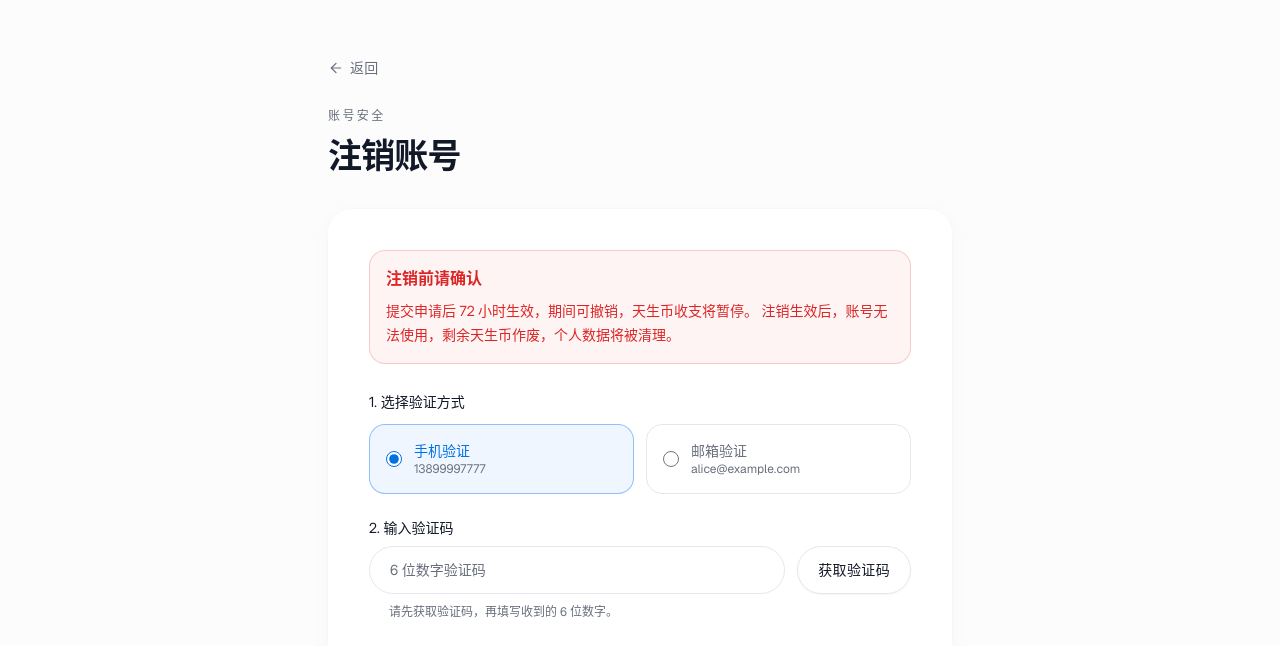
Test case: DeleteAccountForm 72小时注销 › 主动签署精确余额后提交，成功保留会话且不宣称已删除
This screenshot has width=1280, height=646.
Click the button "获取验证码" at [854, 570], box [797,546,911,594]
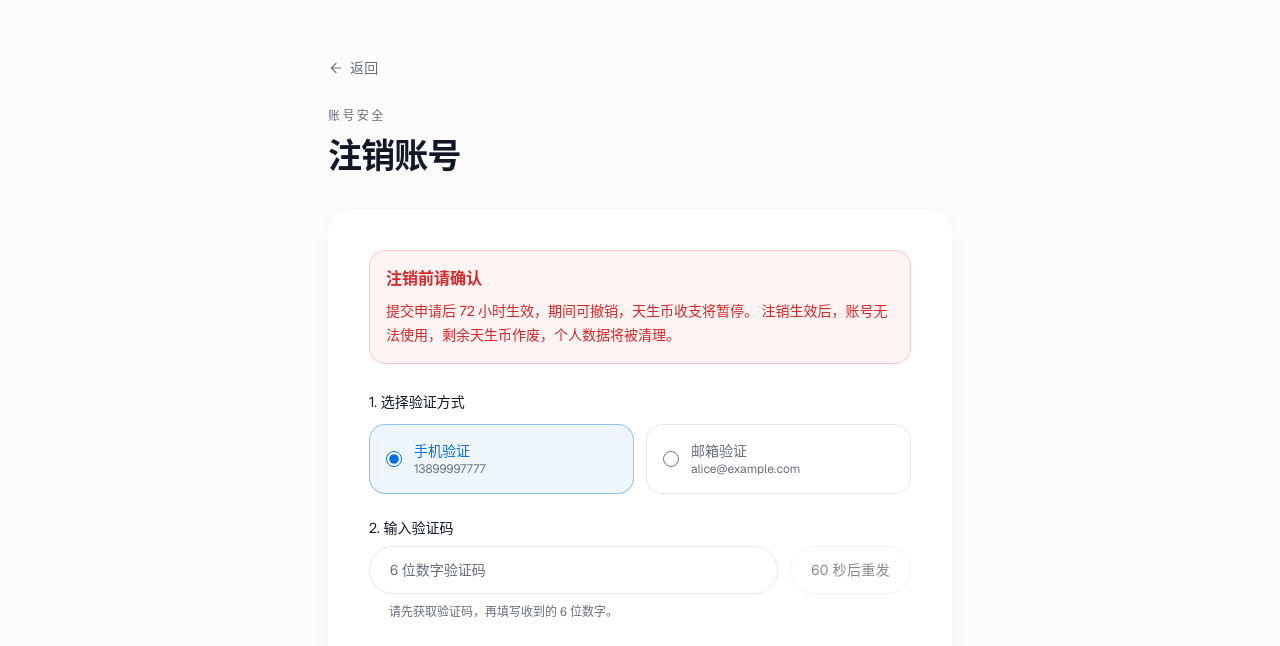
Type "000000" into the field with placeholder "6 位数字验证码" at [574, 570], box [369,546,778,594]
(page scrolled)
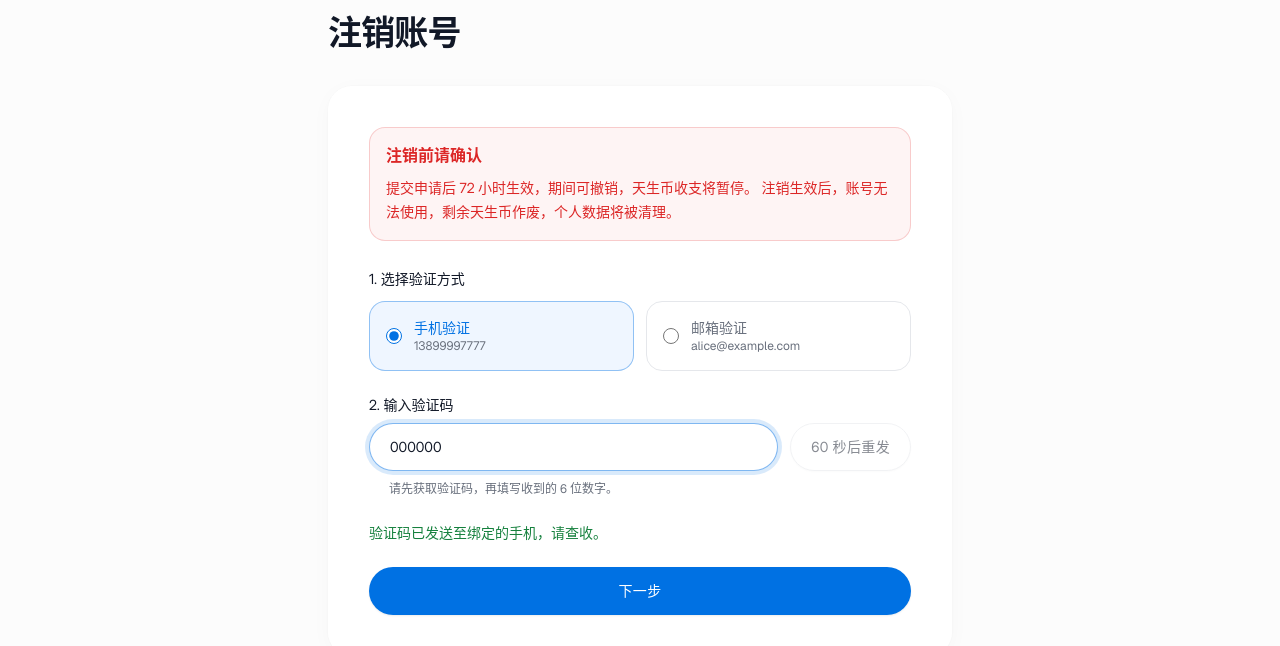
Click the button "下一步" at [640, 591], box [369,567,911,615]
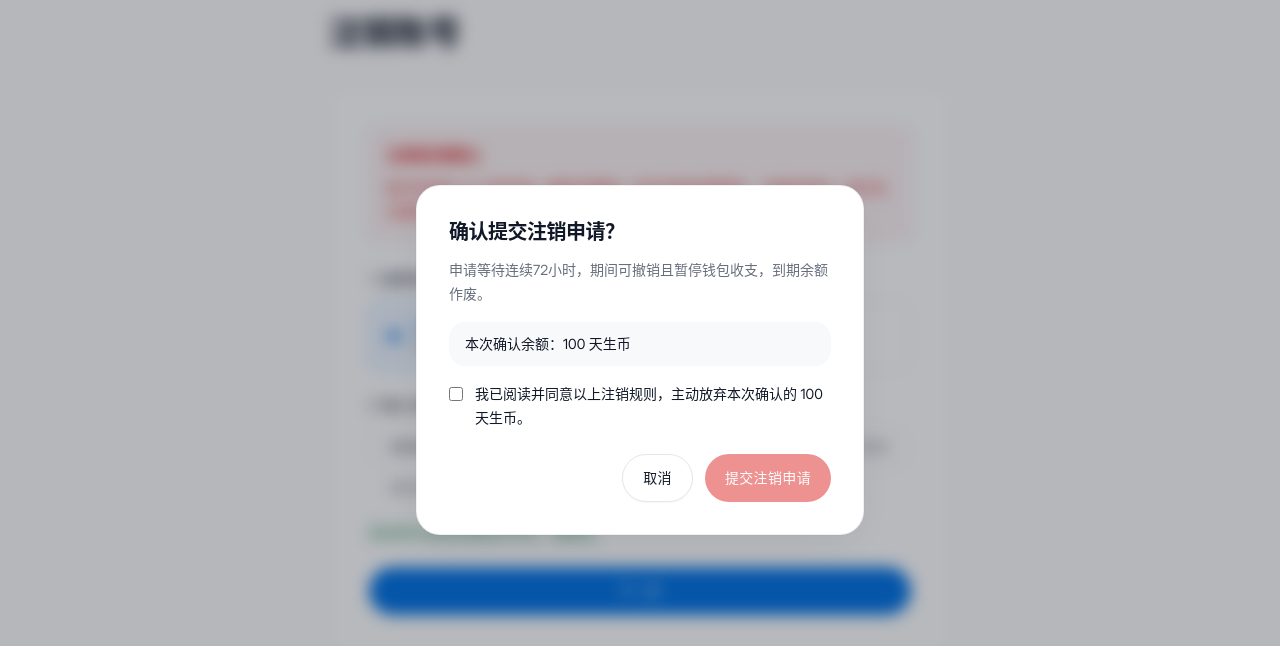
Expected: the checkbox labelled "我已阅读并同意以上注销规则，主动放弃本次确认的 100 天生币。" is not checked
Expected: the button "提交注销申请" is disabled, [705,454,831,502]
Click the checkbox labelled "我已阅读并同意以上注销规则，主动放弃本次确认的 100 天生币。" at [456, 394], box [449,386,463,402]
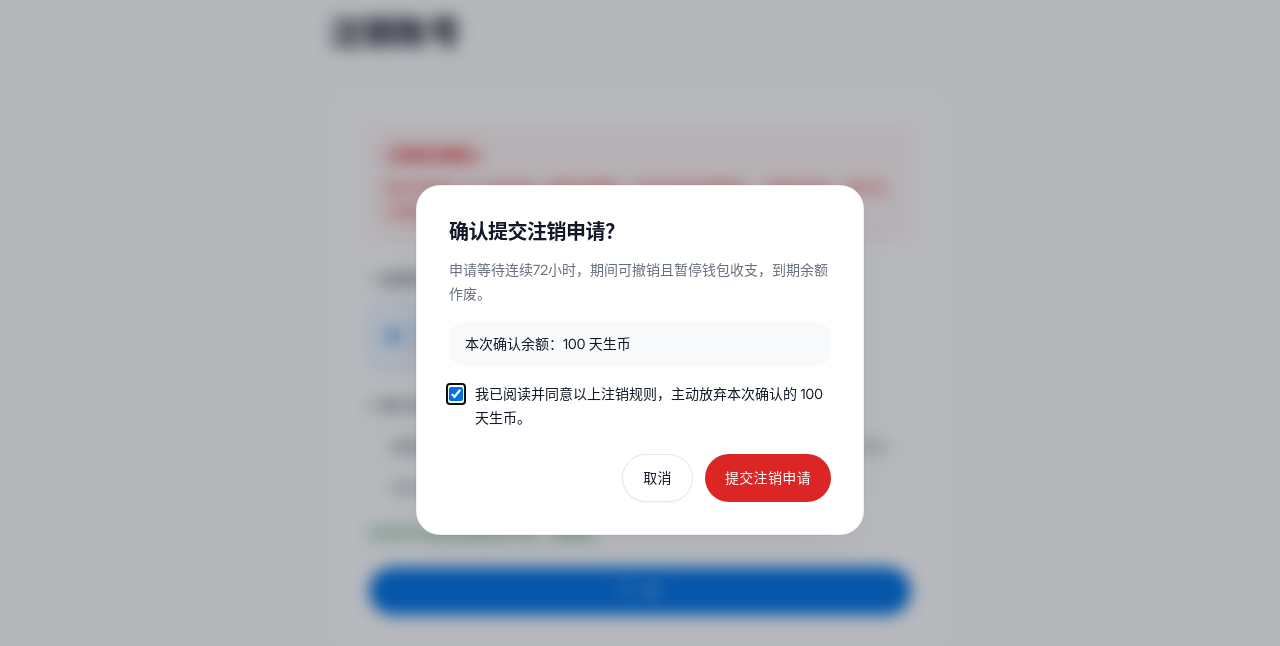
Click the button "提交注销申请" at [768, 478], box [705,454,831,502]
(page scrolled)
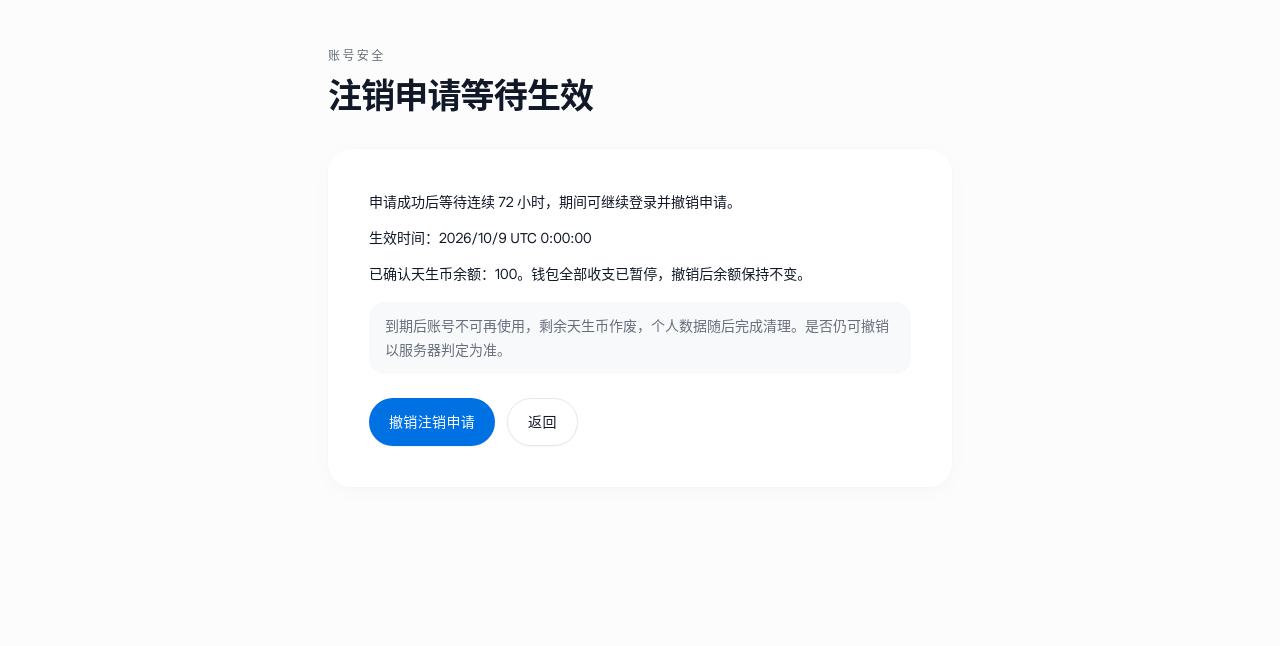
Expected: the heading "注销申请等待生效" is shown, [328,76,593,117]
